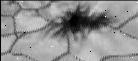good_void: (45, 2, 112, 41)
